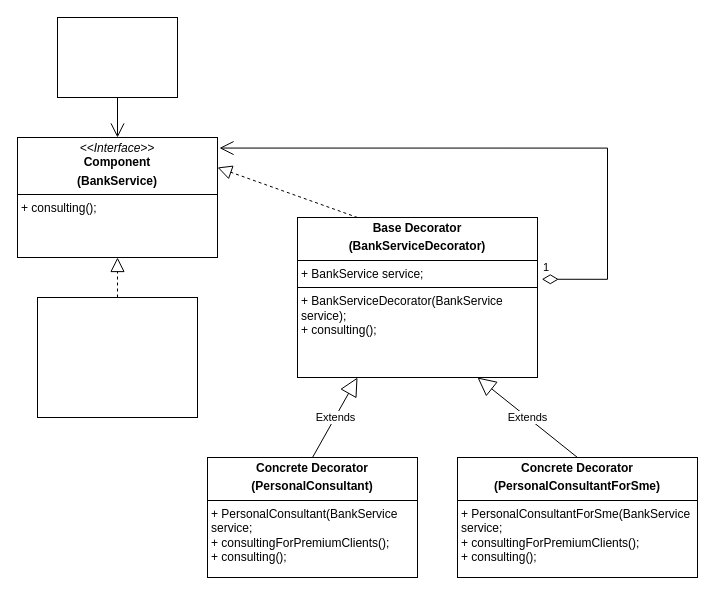
This 715x595 diagram has some shape labels left out. The centre of each missing label's shape, as x and y in pixels:
"Client" belongs at pixel 117 57.
"Concrete Component (Consultant) + consulting();" belongs at pixel 117 357.
